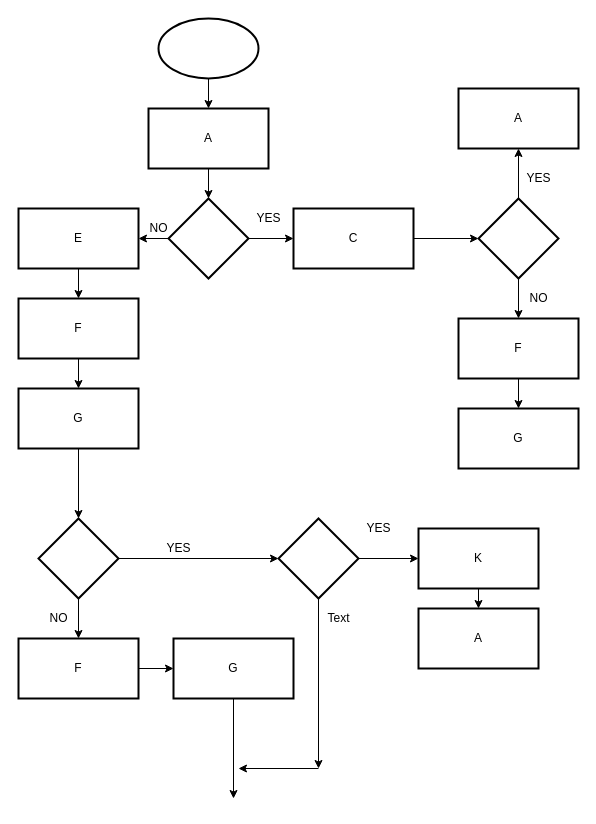
Image size: 596x824. Some labels were removed from this diagram. The shapes that lost their labels are listed below. From the top down, each one's centre as x and y in pixels, then its label:
At [208,48]: "start".
At [208,238]: "B?".
At [518,238]: "D?".
At [78,558]: "H?".
At [318,558]: "J?".
